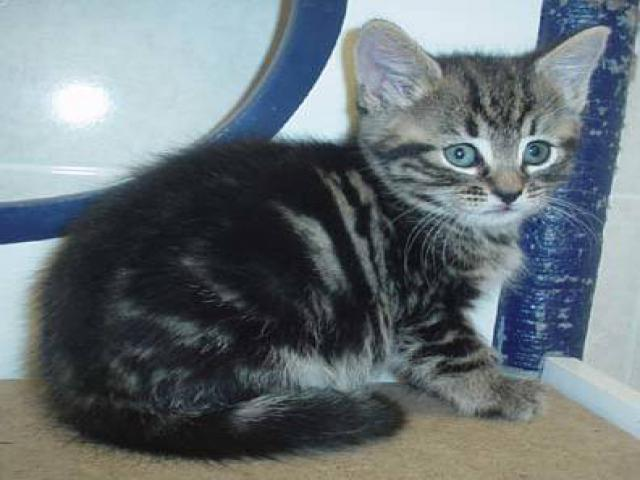cat: (42, 2, 592, 446)
